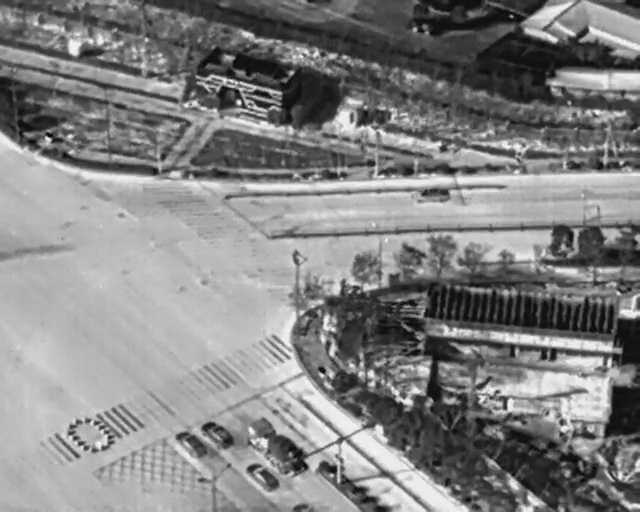Car: (242, 457, 281, 496), (198, 415, 236, 453), (172, 425, 209, 463)
